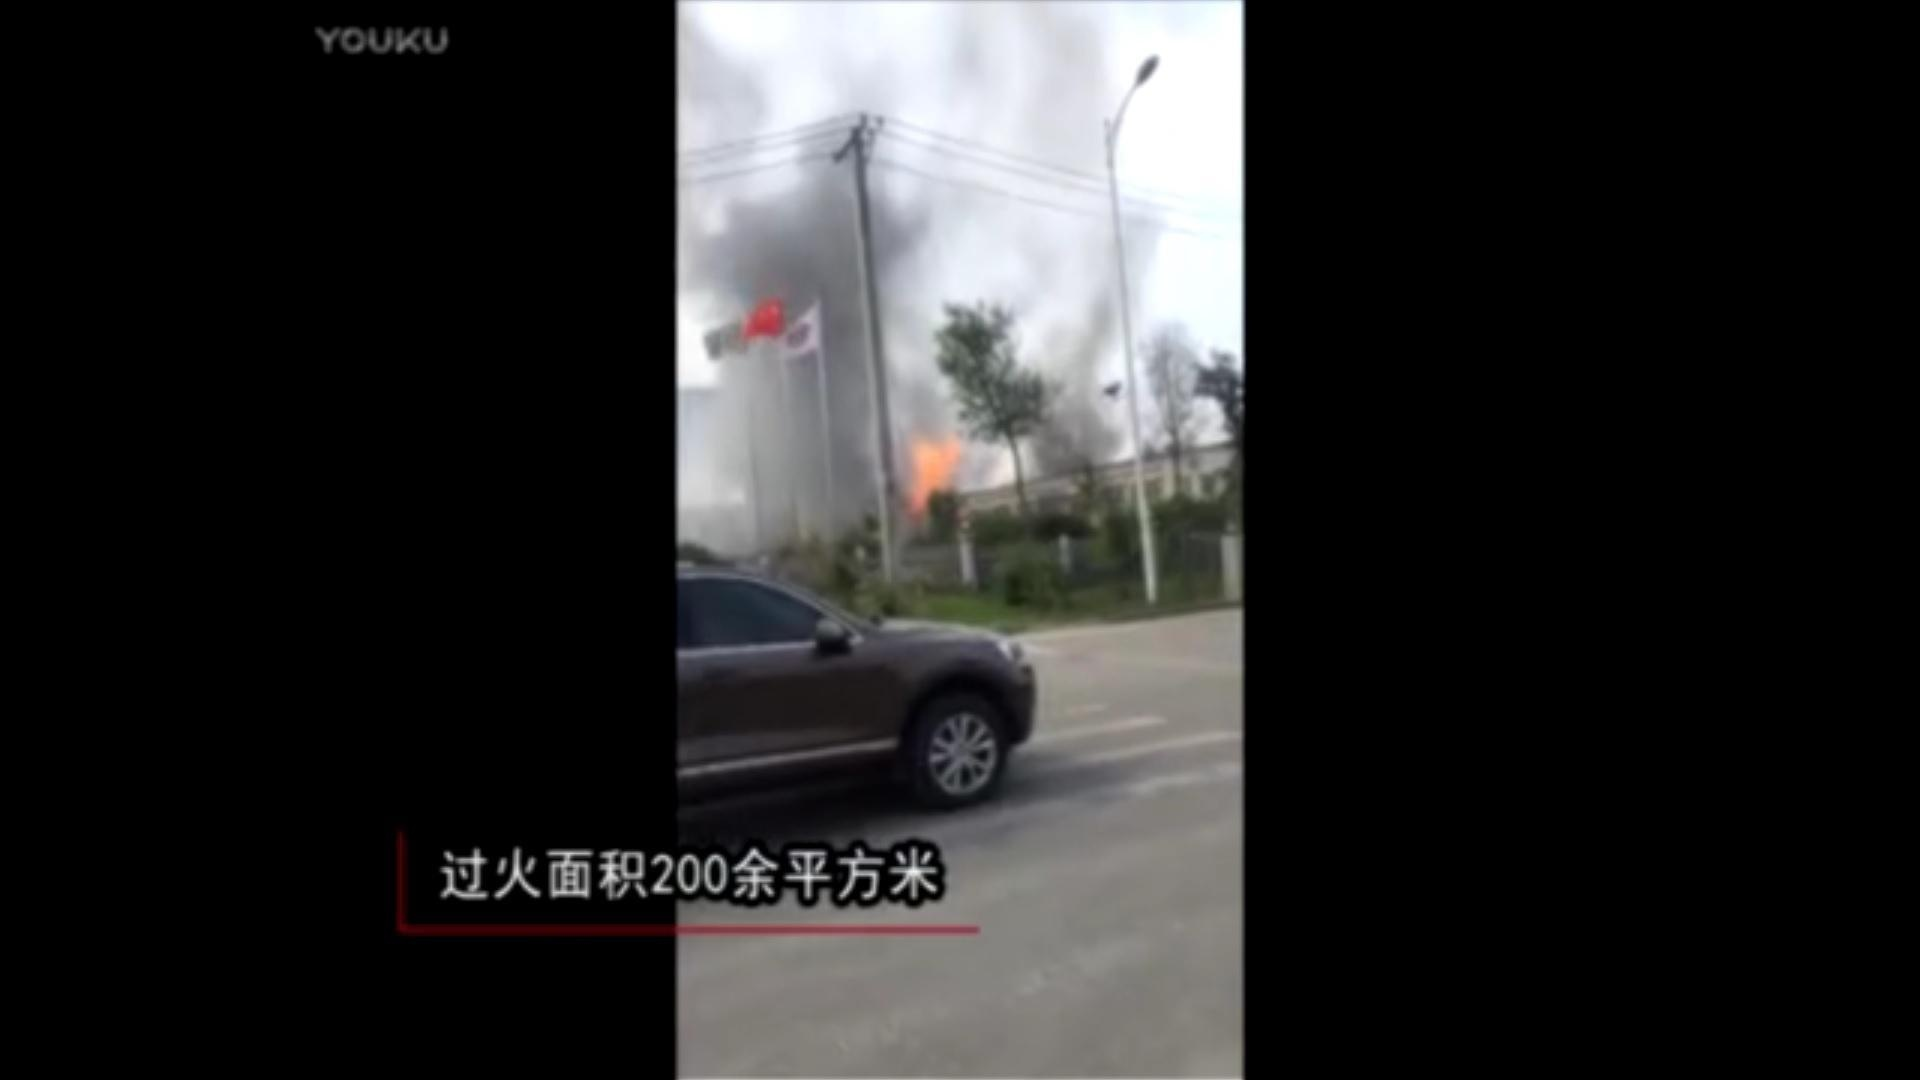fire: (899, 430, 961, 502)
